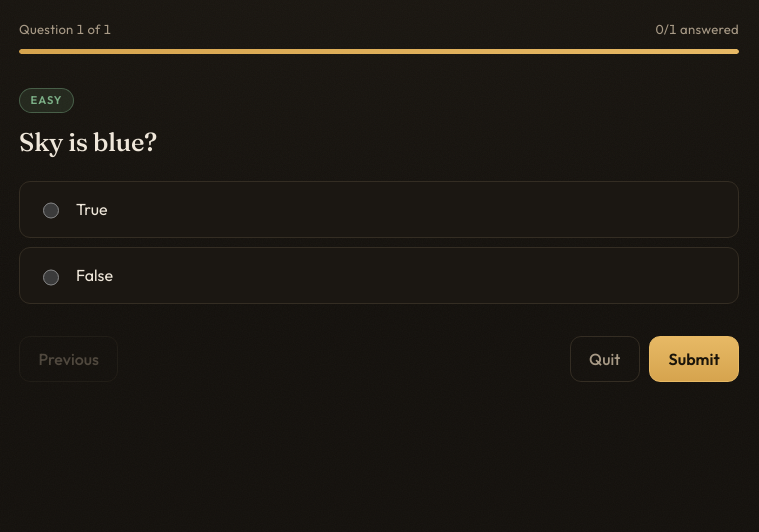
Test: QuizRunner › runs the quiz, submits, saves an attempt, and shows results
Click the radio button labelled "True": x=51, y=211 [43,202,59,219]
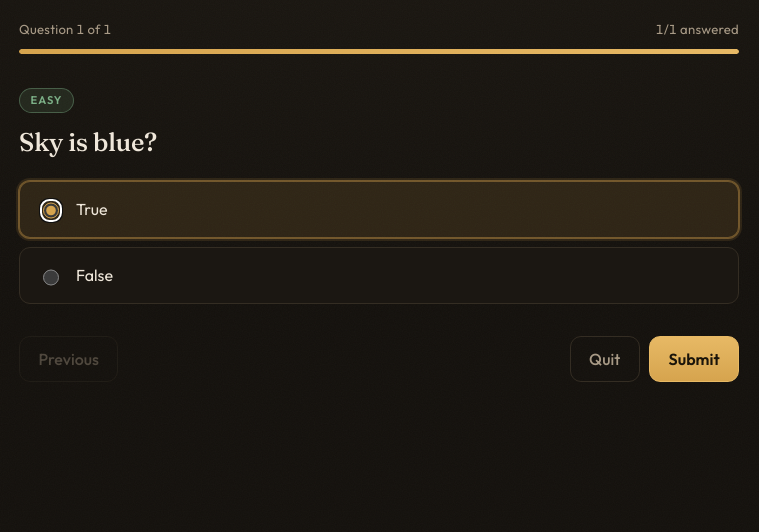
Click the button "Submit": x=694, y=360 [649,336,739,382]
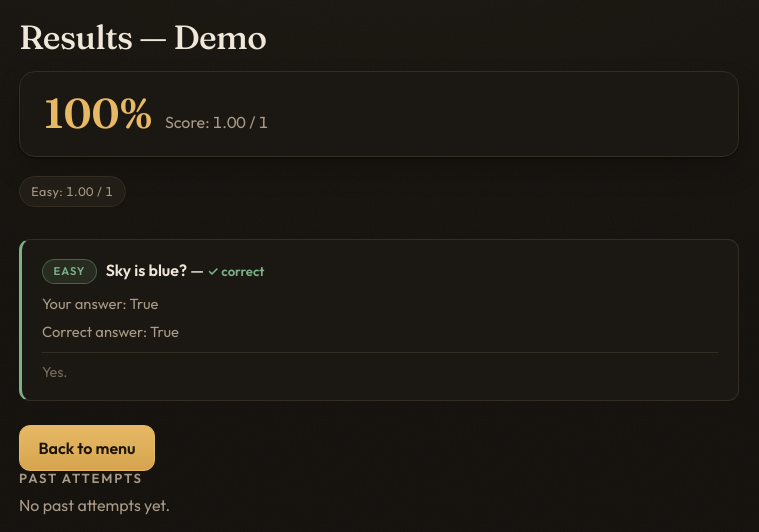
Result: the heading "Results — Demo" is shown at [19,16,266,58]
Result: the text "100%" is shown at [44,93,152,135]
